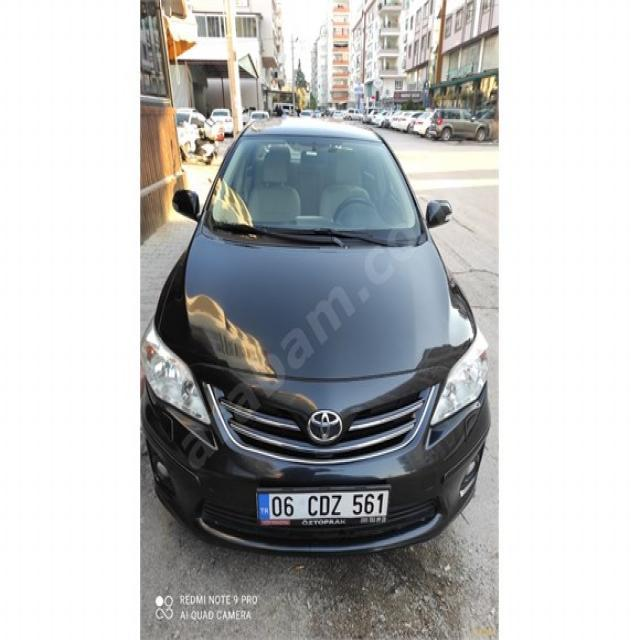plate: (257, 487, 389, 529)
